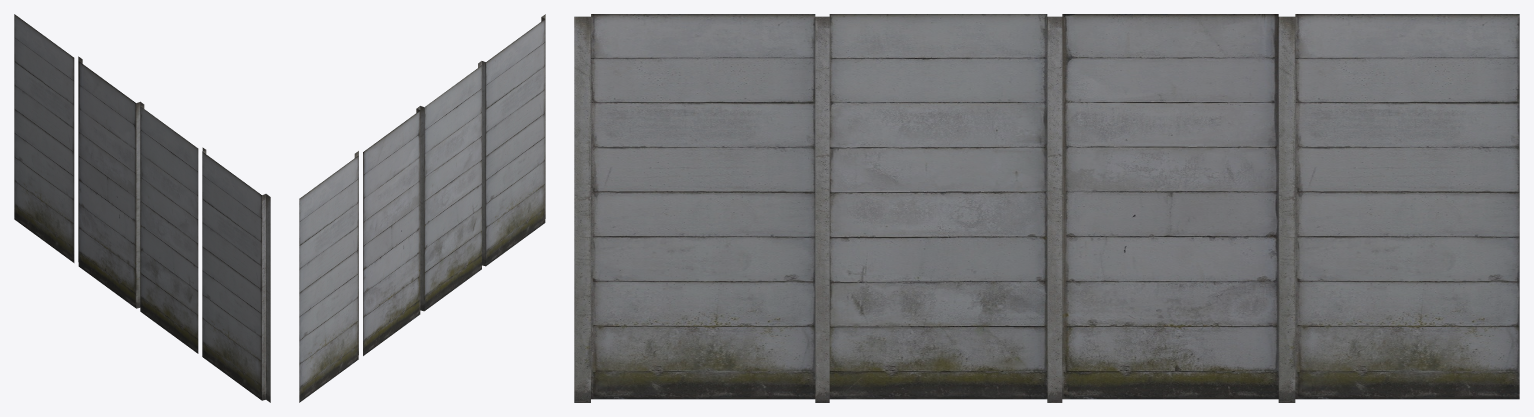
File: map8.obj
The picture shows the model from 3 angles, left to right: view 1: azimuth 30°, elevation 25°; view 2: azimuth 150°, elevation 25°; view 3: azimuth 270°, elevation 25°; orthographic projection. The views are drawn at different scales.
Parts seen in each view (by area): view 1: map3.001; view 2: map3.001; view 3: map3.001.
Part boxes in pixels (x1,y1,x2,y2): map3.001: (14,14,270,402); map3.001: (299,14,545,402); map3.001: (574,14,1519,402).
Size of the model in its own units: 0.0316 by 1.53 by 3.39.
1 material, 1 textured.
